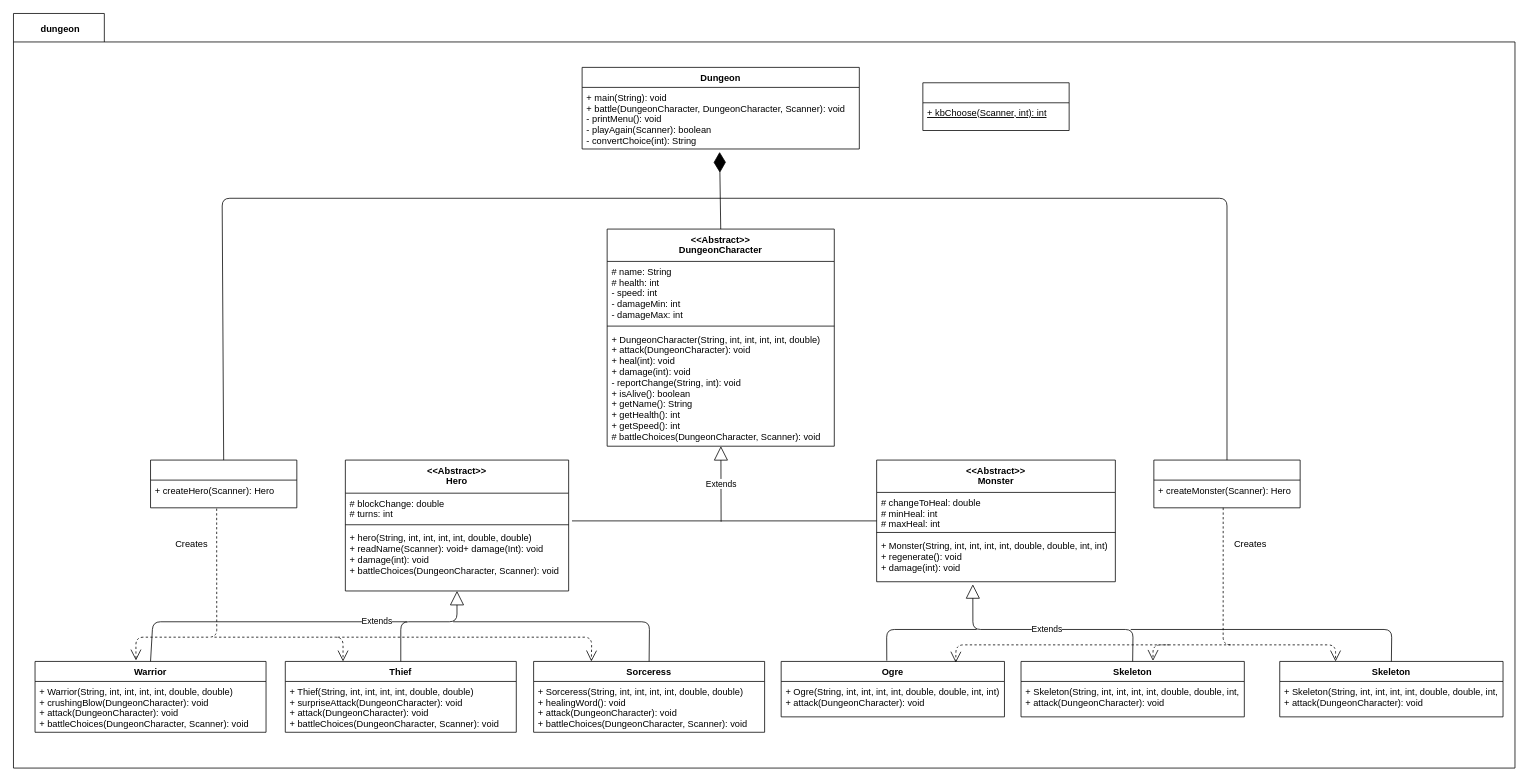
Some shapes in this 1528 by 782 pixel diagram are drawn without their labels. Each missing label, with the box of its shape:
HeroFactory: (150, 459, 297, 508)
Keyboard: (922, 82, 1069, 131)
MonsterFactory: (1153, 459, 1300, 508)
